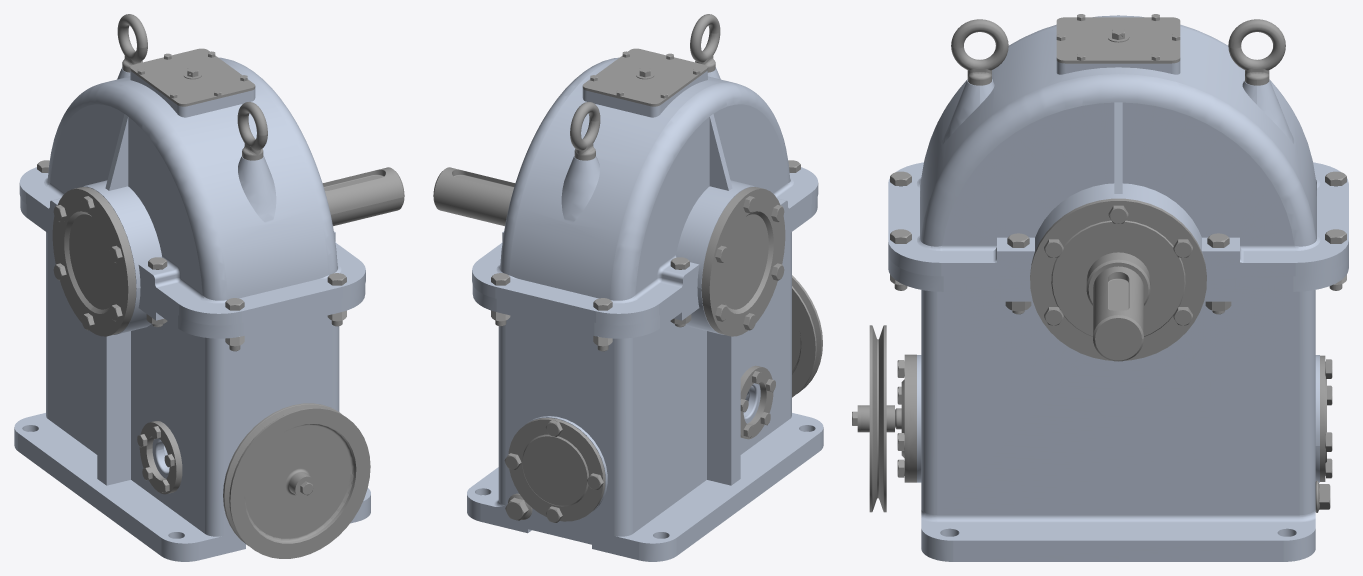
3 renders of one model, left to right at view 1: azimuth 30°, elevation 25°; view 2: azimuth 150°, elevation 25°; view 3: azimuth 270°, elevation 25°, orthographic. The views are drawn at different scales.
Visible parts, largest first — view 1: object 78, object 1, Roata de curea v6, Capac Arbore sus Stanga v16, object 8, Capac de vizitare v6, Arbore Sus??? v5, 3040T15_Steel Eyebolt -for Lifting v1 (×2), Vizor v2, object 82, object 80, object 2; view 2: object 1, object 78, Capac Arbore sus Stanga v16, Capac etansare libera jos v18, object 8, Capac de vizitare v6, Arbore Sus??? v5, Roata de curea v6, 3040T15_Steel Eyebolt -for Lifting v1 (×2), Vizor v2, object 82, object 80 (+2 smaller); view 3: object 1, object 78, Capac sus dreapta v26, Arbore Sus??? v5, Capac de vizitare v6, 3040T15_Steel Eyebolt -for Lifting v1 (×2), Roata de curea v6, object 79, Interior Etansare Arbore Intrare v21, object 82, Capac interior arbore intrare v24, object 81 (+2 smaller).
Part boxes in pixels (x1,y1,x2,y2): object 78: [19, 57, 365, 325]; object 1: [14, 198, 370, 561]; Roata de curea v6: [223, 403, 370, 558]; Capac Arbore sus Stanga v16: [52, 187, 136, 336]; object 8: [97, 331, 130, 485]; Capac de vizitare v6: [130, 48, 255, 106]; Arbore Sus??? v5: [322, 167, 404, 226]; 3040T15_Steel Eyebolt -for Lifting v1 (×2): [117, 14, 267, 160]; Vizor v2: [139, 421, 182, 494]; object 82: [130, 70, 255, 117]; object 80: [105, 114, 128, 190]; object 2: [114, 287, 151, 334]; object 1: [467, 198, 823, 561]; object 78: [472, 57, 818, 325]; Capac Arbore sus Stanga v16: [701, 187, 785, 336]; Capac etansare libera jos v18: [508, 418, 605, 521]; object 8: [707, 331, 740, 485]; Capac de vizitare v6: [582, 48, 707, 106]; Arbore Sus??? v5: [433, 167, 515, 226]; Roata de curea v6: [792, 275, 822, 397]; 3040T15_Steel Eyebolt -for Lifting v1 (×2): [570, 14, 720, 160]; Vizor v2: [740, 365, 773, 439]; object 82: [582, 70, 707, 117]; object 80: [709, 114, 732, 190]; object 1: [888, 254, 1348, 561]; object 78: [888, 15, 1348, 276]; Capac sus dreapta v26: [1030, 198, 1206, 360]; Arbore Sus??? v5: [1086, 252, 1150, 361]; Capac de vizitare v6: [1056, 17, 1180, 63]; 3040T15_Steel Eyebolt -for Lifting v1 (×2): [951, 19, 1285, 85]; Roata de curea v6: [861, 325, 894, 512]; object 79: [997, 183, 1239, 262]; Interior Etansare Arbore Intrare v21: [909, 354, 916, 482]; object 82: [1056, 61, 1180, 74]; Capac interior arbore intrare v24: [901, 354, 909, 482]; object 81: [1114, 102, 1122, 193].
Bounding box in the file's own units: 0.3867 × 0.5008 × 0.4658.
